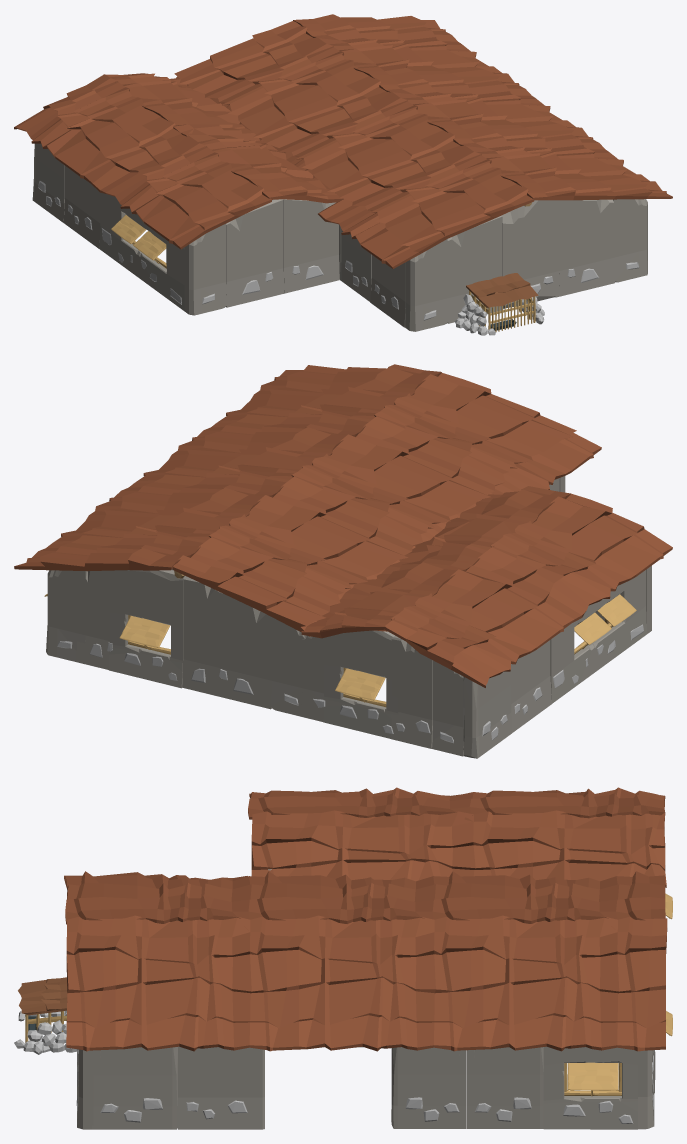
The model's file is house_4.fbx.
3 renders of one model, top to bottom at view 1: azimuth 30°, elevation 25°; view 2: azimuth 150°, elevation 25°; view 3: azimuth 270°, elevation 25°, orthographic. The views are drawn at different scales.
Visible parts, largest first — view 1: house_4; view 2: house_4; view 3: house_4.
Part boxes in pixels (<box>): house_4: <box>14,14,672,335</box>; house_4: <box>14,364,672,758</box>; house_4: <box>14,787,672,1129</box>.
Bounding box in the file's own units: 1781 × 455 × 1925.
